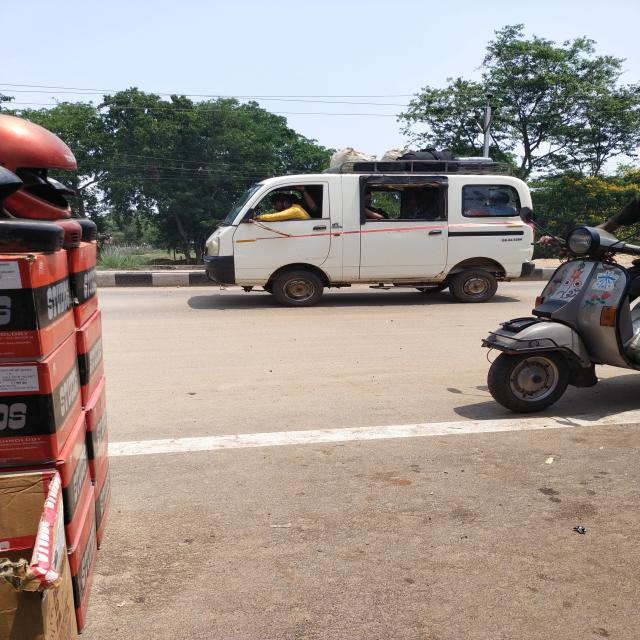Car: (203, 161, 533, 306)
Two Wheeler: (483, 226, 640, 412)
